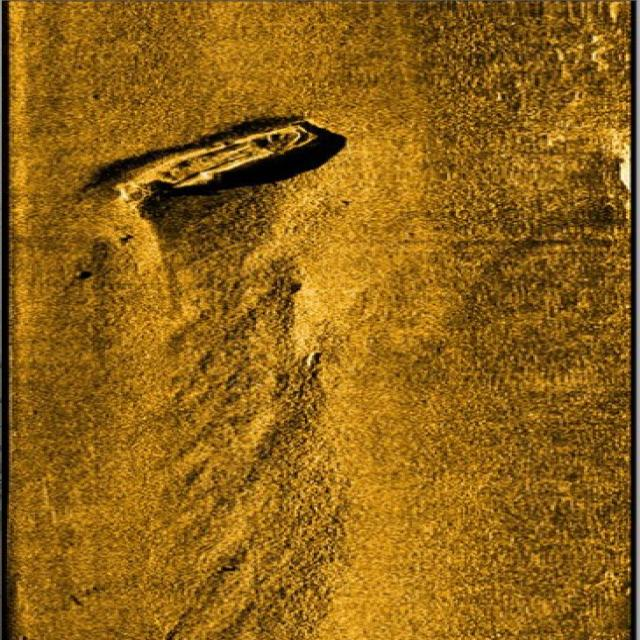ship: (105, 112, 330, 207)
